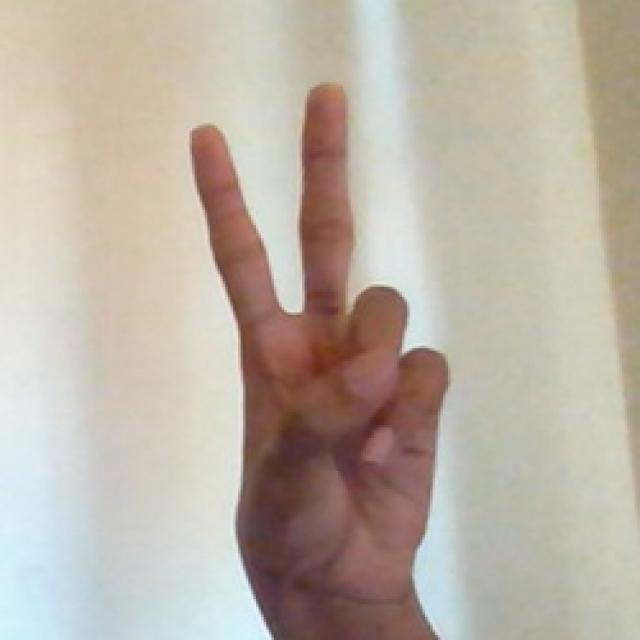Numeric-2: (194, 73, 450, 614)
